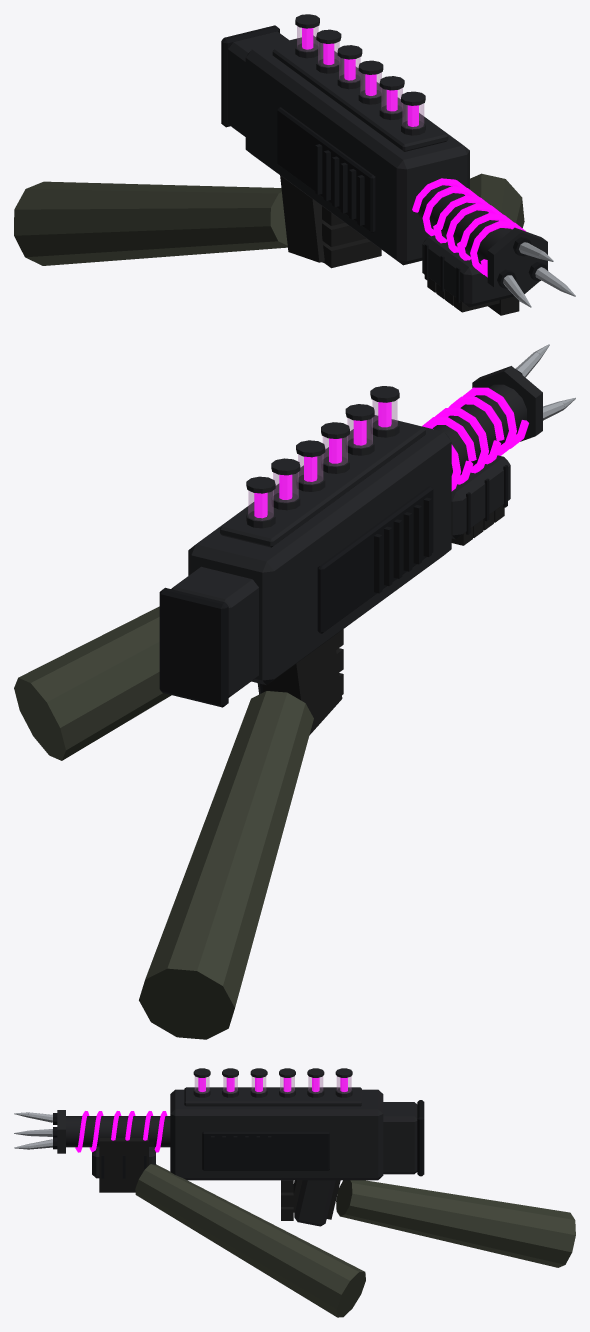
File: gun_arc.glb
The picture shows the model from 3 angles, top to bottom: view 1: azimuth 30°, elevation 25°; view 2: azimuth 150°, elevation 25°; view 3: azimuth 270°, elevation 25°; orthographic projection. The views are drawn at different scales.
Parts seen in each view (by area): view 1: Body, Forearm_R, Armor, Glove_R, Forearm_L, Coil_1, Coil_2, Coil_3, Glove_L, Cell_1_Shield, Cell_2_Shield, Cell_3_Shield (+4 smaller); view 2: Body, Forearm_R, Armor, Forearm_L, Glove_R, Coil_3, Coil_2; view 3: Body, Forearm_R, Forearm_L, Armor, Glove_L, Glove_R, Coil_3, Coil_1.
Boxes of the visible parts, x1,y1,x2,y2 form: Body: (228, 14, 547, 307); Forearm_R: (14, 181, 287, 265); Armor: (221, 25, 548, 303); Glove_R: (280, 175, 381, 268); Forearm_L: (470, 173, 524, 227); Coil_1: (412, 178, 478, 243); Coil_2: (436, 195, 502, 260); Coil_3: (459, 213, 525, 277); Glove_L: (427, 278, 519, 315); Cell_1_Shield: (402, 103, 423, 128); Cell_2_Shield: (381, 88, 402, 113); Cell_3_Shield: (360, 72, 381, 97); Body: (171, 366, 542, 697); Forearm_R: (139, 691, 313, 1039); Armor: (159, 369, 543, 707); Forearm_L: (14, 606, 171, 760); Glove_R: (262, 629, 343, 735); Coil_3: (447, 387, 528, 455); Coil_2: (422, 408, 501, 473); Body: (57, 1068, 417, 1226); Forearm_R: (336, 1180, 575, 1267); Forearm_L: (135, 1164, 365, 1317); Armor: (53, 1100, 424, 1178); Glove_L: (99, 1138, 154, 1192); Glove_R: (281, 1180, 340, 1220); Coil_3: (75, 1111, 103, 1152); Coil_1: (143, 1111, 167, 1152).
Size of the model in its own units: 0.3807 by 0.3493 by 0.7914.
